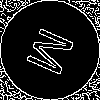M: (25, 25, 84, 82)
